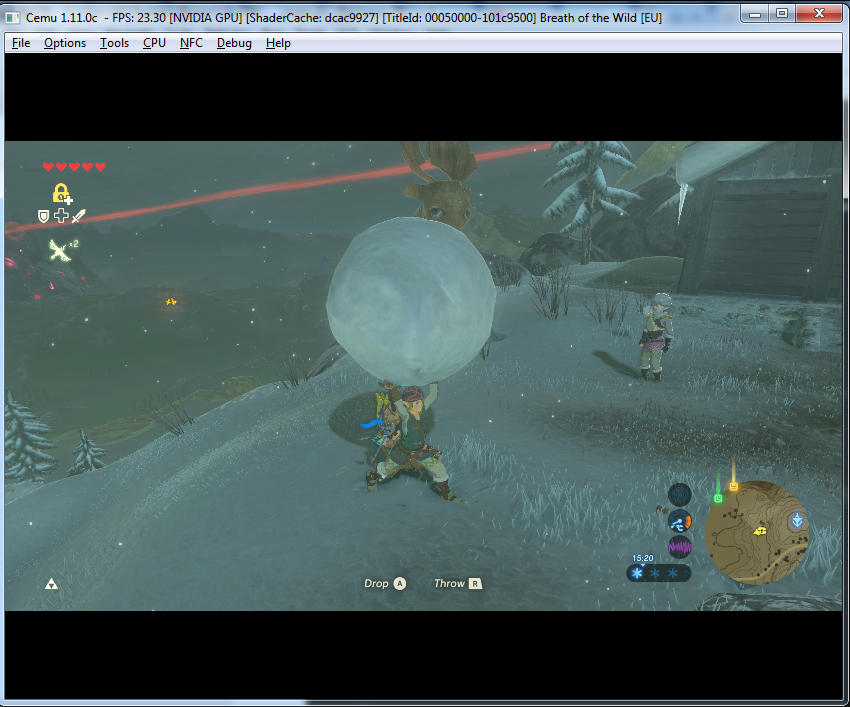dude: (636, 287, 675, 385)
link: (359, 377, 465, 508)
snowball: (322, 216, 504, 388)
